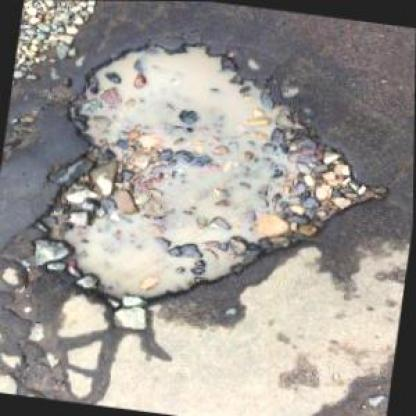pothole: (21, 22, 403, 341)
